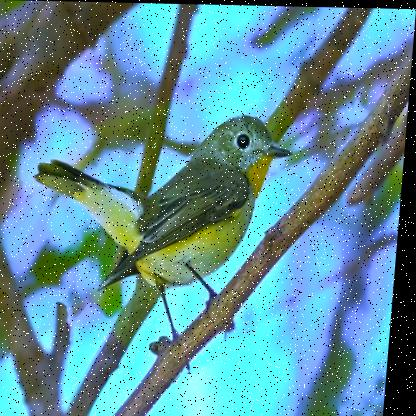Burung: (30, 109, 300, 363)
